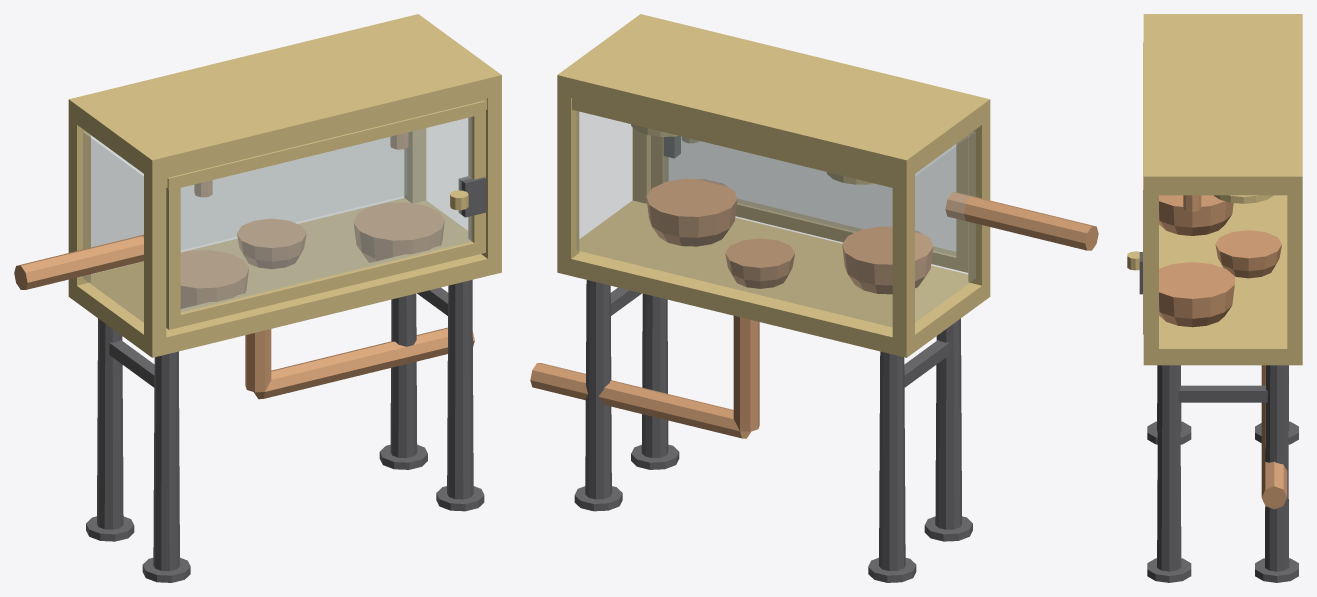
Rendered from distillery-and-bonded-warehouse-spirit-safe-6e286af9__38664.glb.
The picture shows the model from 3 angles, left to right: view 1: azimuth 30°, elevation 25°; view 2: azimuth 150°, elevation 25°; view 3: azimuth 270°, elevation 25°; orthographic projection. The views are drawn at different scales.
Visible parts, largest first — view 1: spirit-safe-brass, spirit-safe-glass, door/glass, spirit-safe-iron, spirit-safe-copper, door/brass; view 2: spirit-safe-brass, spirit-safe-glass, spirit-safe-iron, spirit-safe-copper, door/brass; view 3: spirit-safe-brass, spirit-safe-iron, spirit-safe-copper, door/brass.
Part boxes in pixels (x1,y1,x2,y2): spirit-safe-brass: [68, 14, 501, 357]; spirit-safe-glass: [83, 117, 470, 322]; door/glass: [166, 117, 472, 327]; spirit-safe-iron: [86, 176, 486, 582]; spirit-safe-copper: [14, 132, 474, 399]; door/brass: [166, 100, 485, 329]; spirit-safe-brass: [557, 14, 990, 357]; spirit-safe-glass: [576, 111, 975, 326]; spirit-safe-iron: [574, 136, 972, 582]; spirit-safe-copper: [530, 178, 1098, 438]; door/brass: [651, 135, 968, 272]; spirit-safe-brass: [1143, 14, 1302, 365]; spirit-safe-iron: [1139, 252, 1298, 582]; spirit-safe-copper: [1159, 195, 1287, 509]; door/brass: [1127, 42, 1143, 334].
Bounding box in the file's own units: 2.15 × 1.76 × 0.6833.
